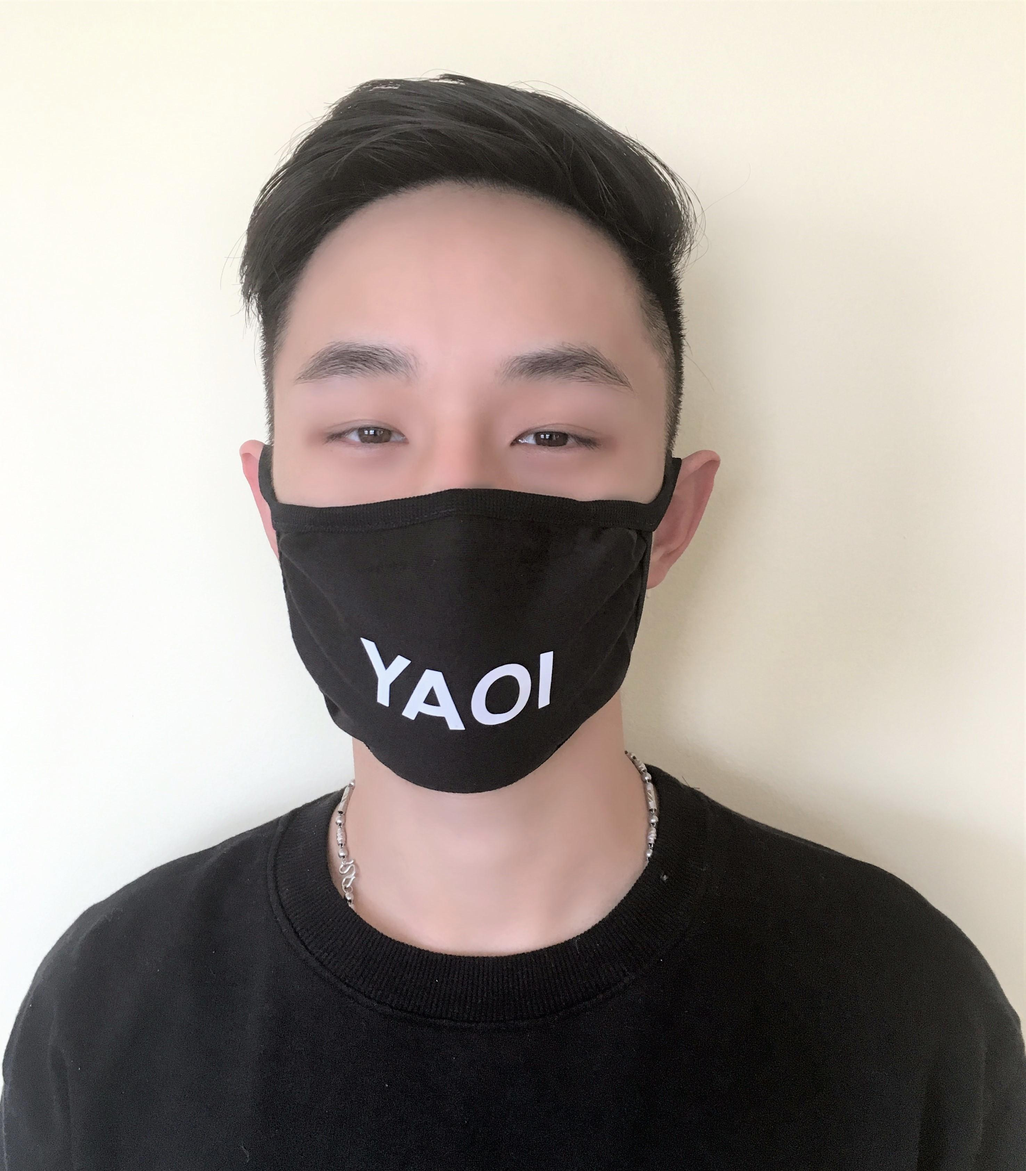Wearing Mask: (158, 70, 880, 956)
